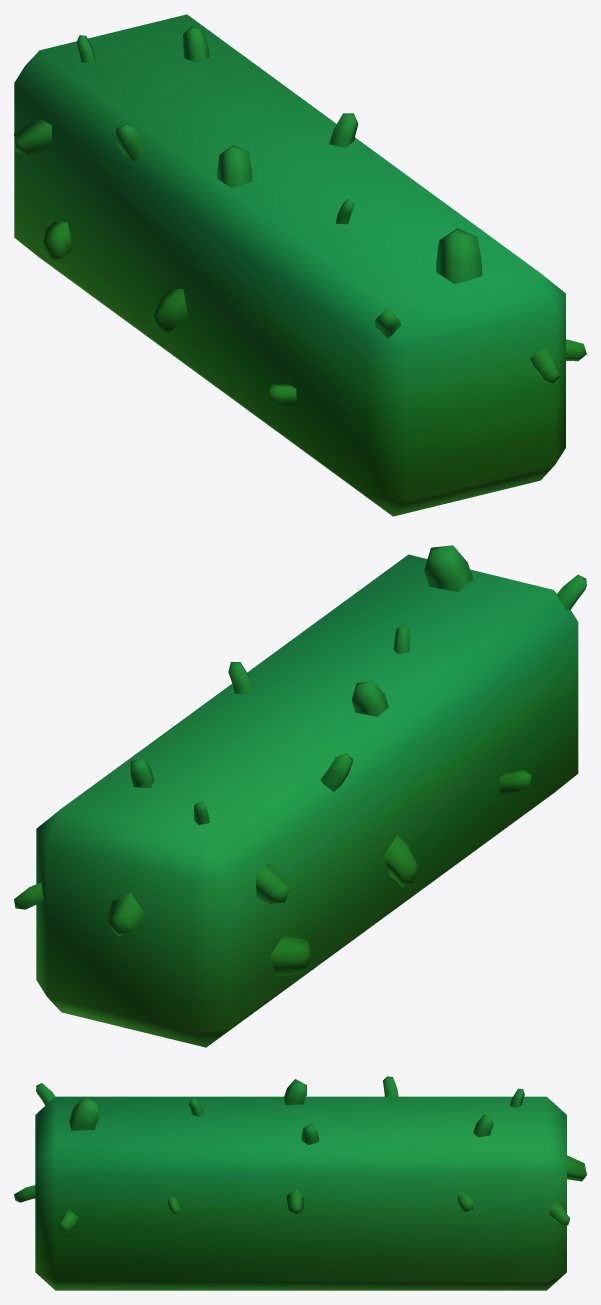
File: Bush_1_A_1.fbx
3 renders of one model, top to bottom at view 1: azimuth 30°, elevation 25°; view 2: azimuth 150°, elevation 25°; view 3: azimuth 270°, elevation 25°, orthographic. The views are drawn at different scales.
Visible parts, largest first — view 1: Bush_1_A_1; view 2: Bush_1_A_1; view 3: Bush_1_A_1.
Boxes of the visible parts, left/top/right/bottom form: Bush_1_A_1: left=14, top=14, right=586, bottom=516; Bush_1_A_1: left=14, top=545, right=586, bottom=1047; Bush_1_A_1: left=14, top=1076, right=586, bottom=1290.
Bounding box in the file's own units: 79.36 × 73.97 × 223.
